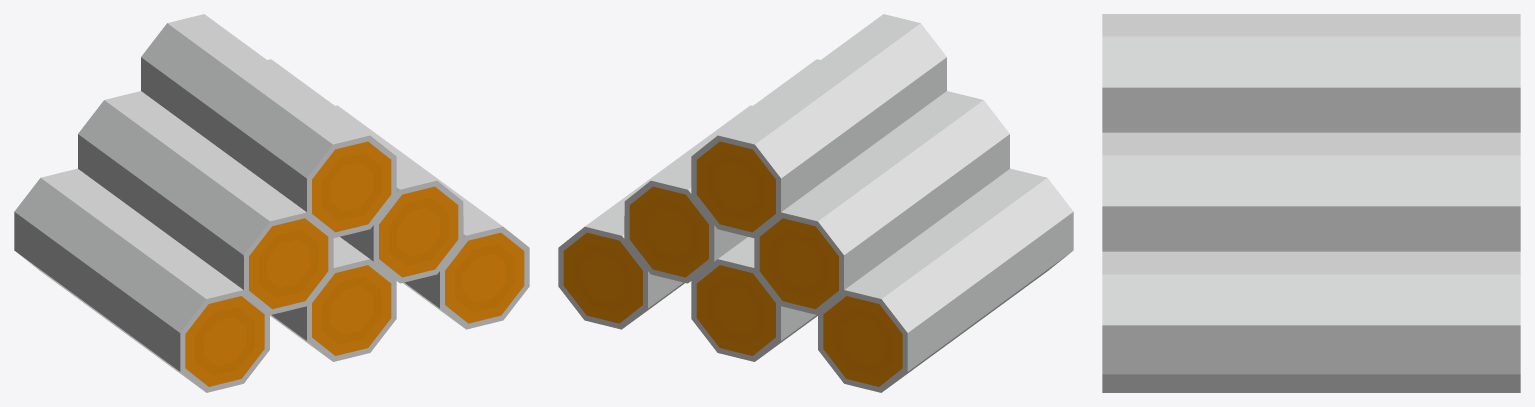
The model's file is Small Log_11.fbx.
The picture shows the model from 3 angles, left to right: view 1: azimuth 30°, elevation 25°; view 2: azimuth 150°, elevation 25°; view 3: azimuth 270°, elevation 25°; orthographic projection. The views are drawn at different scales.
Visible parts, largest first — view 1: Circle.257; view 2: Circle.257; view 3: Circle.257.
Part boxes in pixels (bbox=[...]): Circle.257: bbox=[14, 14, 529, 392]; Circle.257: bbox=[558, 14, 1073, 392]; Circle.257: bbox=[1102, 14, 1520, 392].
Bounding box in the file's own units: 28.63 × 17.04 × 23.54.
